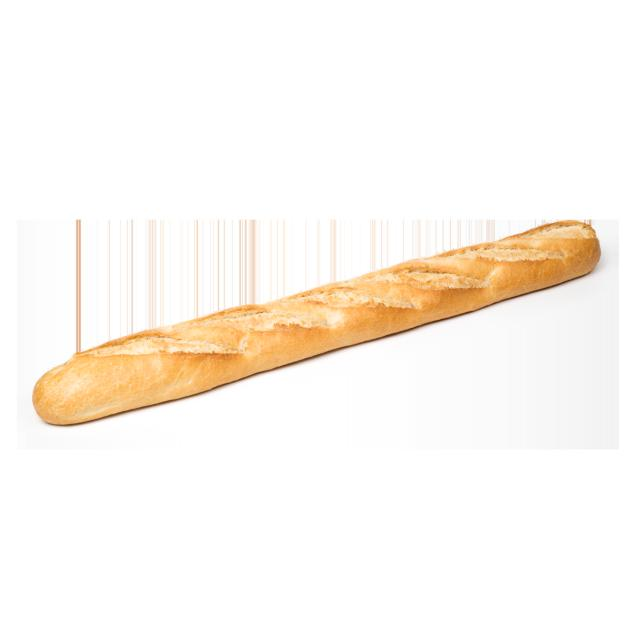Baguette: (33, 221, 600, 424)
